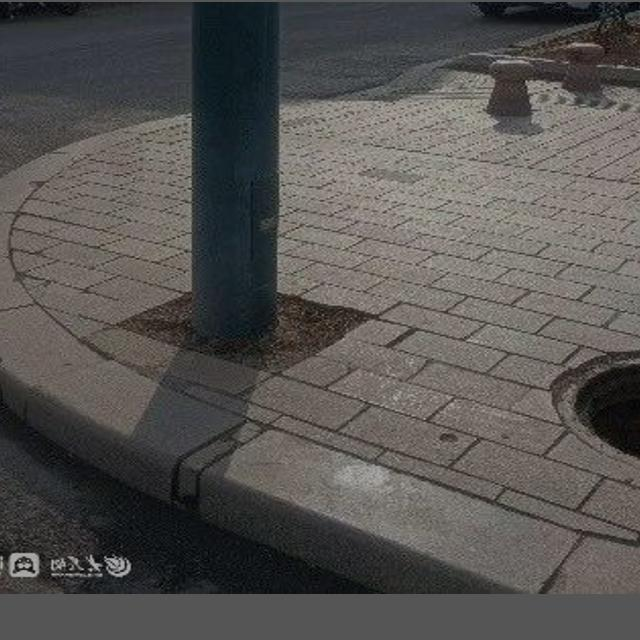lose: (550, 343, 640, 483)
